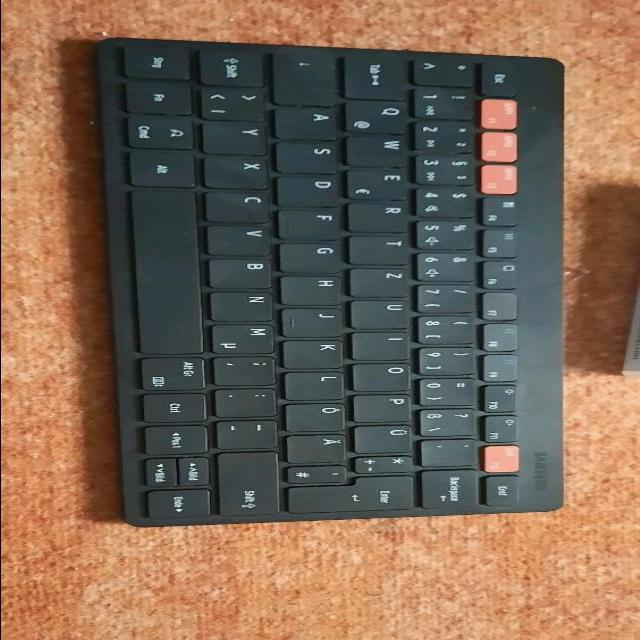0: (421, 375, 483, 404)
1: (417, 85, 483, 117)
2: (416, 120, 480, 152)
3: (418, 153, 482, 183)
4: (419, 185, 483, 215)
5: (419, 218, 481, 248)
6: (419, 250, 481, 279)
7: (420, 282, 482, 311)
8: (420, 313, 482, 342)
9: (421, 344, 483, 372)
a: (277, 106, 343, 138)
accent: (423, 437, 485, 465)
ae: (287, 432, 351, 462)
alt-left: (131, 148, 201, 186)
altgr-right: (142, 354, 212, 390)
b: (210, 256, 277, 288)
c: (208, 189, 275, 221)
caret: (415, 55, 479, 84)
comma: (216, 354, 283, 384)
d: (279, 174, 345, 205)
del: (424, 467, 486, 507)
e: (349, 167, 415, 199)
enter: (291, 475, 423, 511)
f: (281, 207, 345, 238)
g: (282, 241, 346, 271)
h: (283, 274, 347, 304)
hash: (290, 464, 354, 482)
i: (354, 329, 416, 358)
j: (284, 306, 348, 336)
k: (285, 338, 349, 368)
keyboard: (91, 34, 575, 528)
l: (286, 370, 350, 399)
less: (203, 86, 271, 120)
m: (212, 322, 280, 352)
minus: (220, 417, 284, 447)
n: (211, 290, 277, 320)
o: (354, 361, 416, 390)
oe: (286, 401, 350, 430)
p: (354, 392, 416, 421)
plus: (358, 453, 420, 471)
point: (218, 386, 282, 416)
q: (346, 99, 413, 132)
r: (350, 201, 414, 231)
s: (279, 140, 343, 172)
shift-left: (201, 47, 270, 85)
shift-lock: (275, 49, 344, 103)
shift-right: (222, 451, 286, 515)
space: (134, 189, 206, 353)
ss: (422, 406, 481, 434)
strg-left: (125, 38, 197, 79)
strg-right: (144, 391, 212, 421)
t: (351, 233, 415, 263)
tab: (346, 52, 415, 98)
u: (352, 298, 414, 328)
ue: (356, 423, 418, 452)
v: (209, 223, 276, 254)
w: (349, 133, 415, 165)
x: (207, 155, 274, 187)
y: (205, 121, 273, 153)
z: (351, 266, 415, 296)
